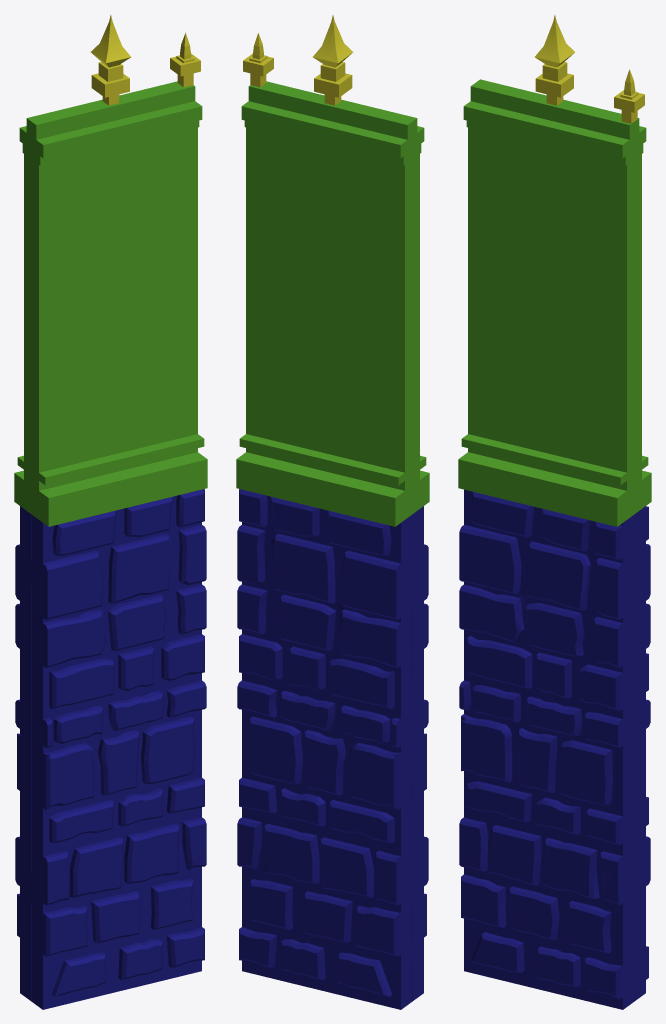
The model's file is SM_fence_mur2.fbx.
The picture shows the model from 3 angles, left to right: view 1: azimuth 30°, elevation 25°; view 2: azimuth 150°, elevation 25°; view 3: azimuth 330°, elevation 25°; orthographic projection.
Parts seen in each view (by area): view 1: Plane007, Box005, GRILLAGE010; view 2: Plane007, Box005, GRILLAGE010; view 3: Plane007, Box005, GRILLAGE010.
Part boxes in pixels (<box>): Plane007: <box>15,489,206,1009</box>; Box005: <box>14,81,207,526</box>; GRILLAGE010: <box>90,15,200,105</box>; Plane007: <box>237,489,428,1009</box>; Box005: <box>236,81,429,526</box>; GRILLAGE010: <box>243,15,353,105</box>; Plane007: <box>459,489,650,1009</box>; Box005: <box>458,79,651,526</box>; GRILLAGE010: <box>535,15,644,123</box>.
Size of the model in its own units: 207 by 1164 by 75.
